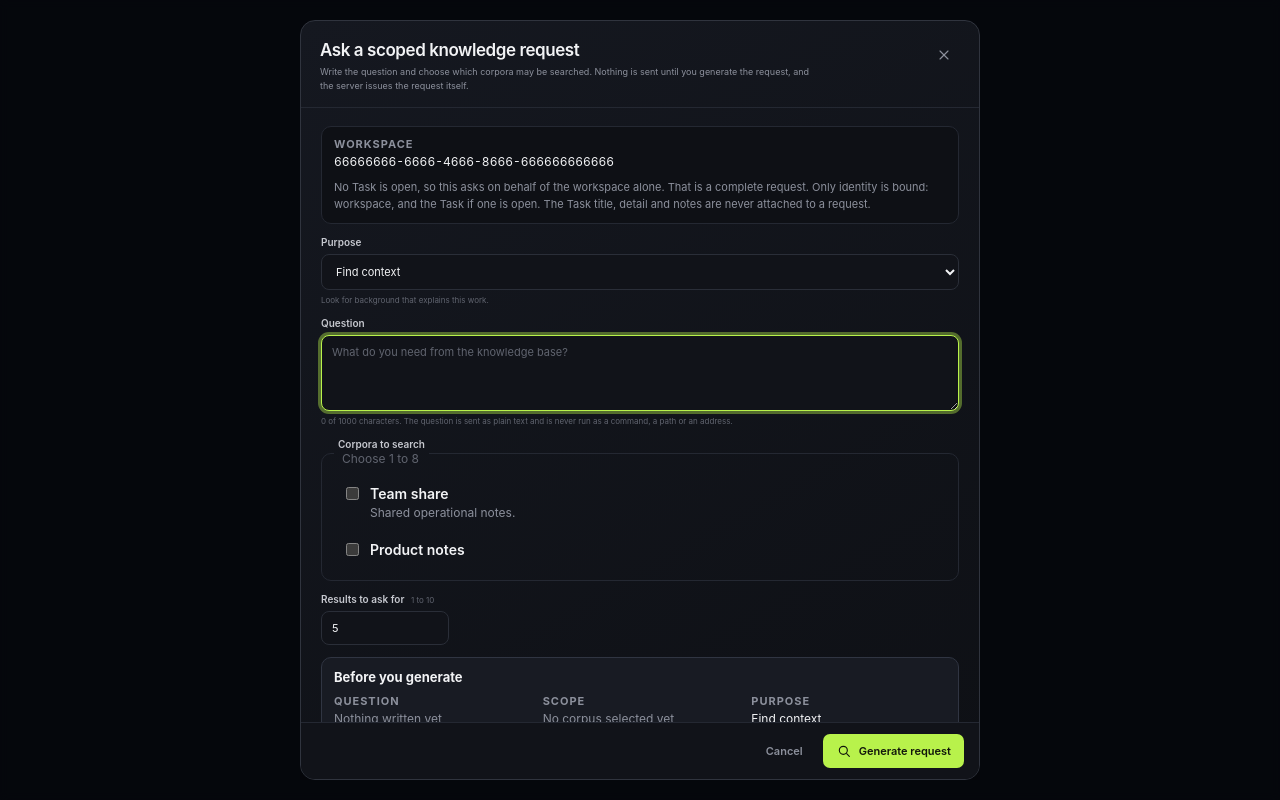
Scenario: a request refuses before issue when the question or the scope is unusable
Click the button "Generate request" at (893, 751), box [823,734,964,768]
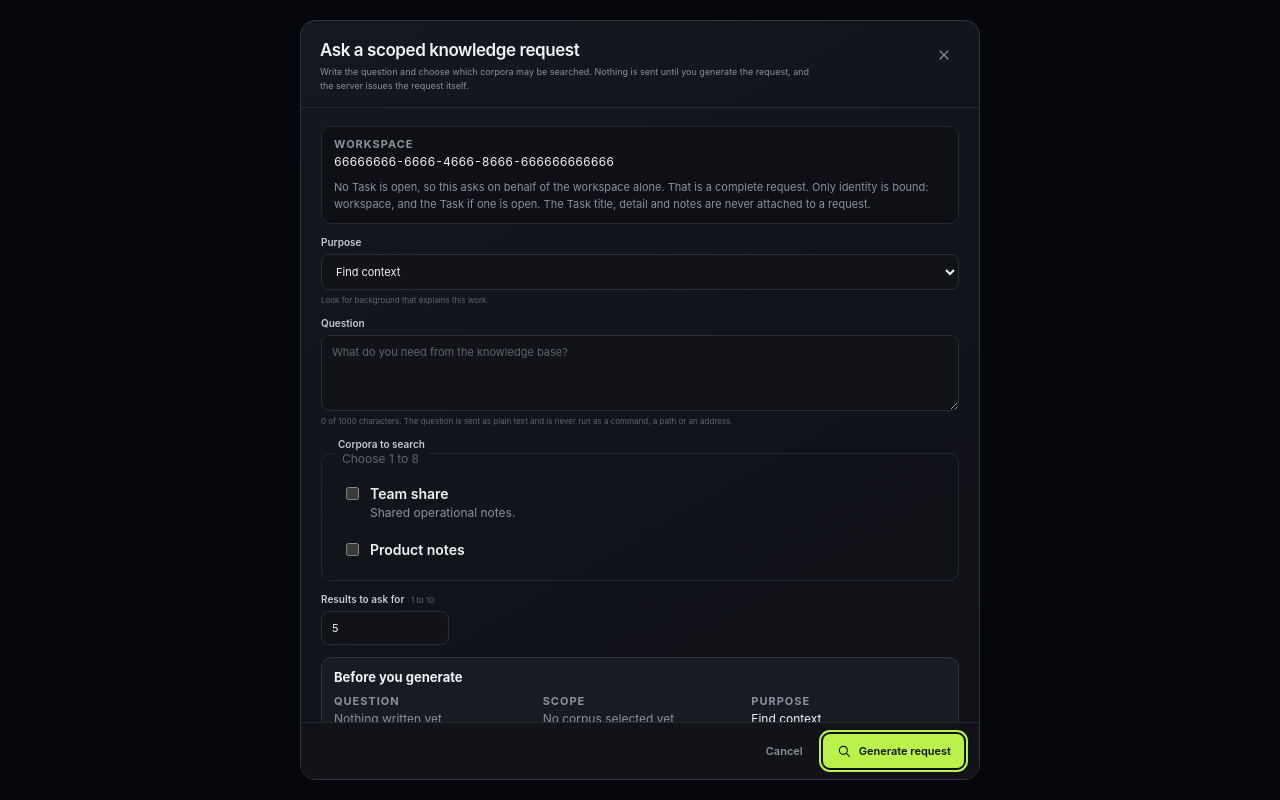
Type "rollback verification owner" into the text box labelled "Question" at (640, 373), box [321,335,959,411]
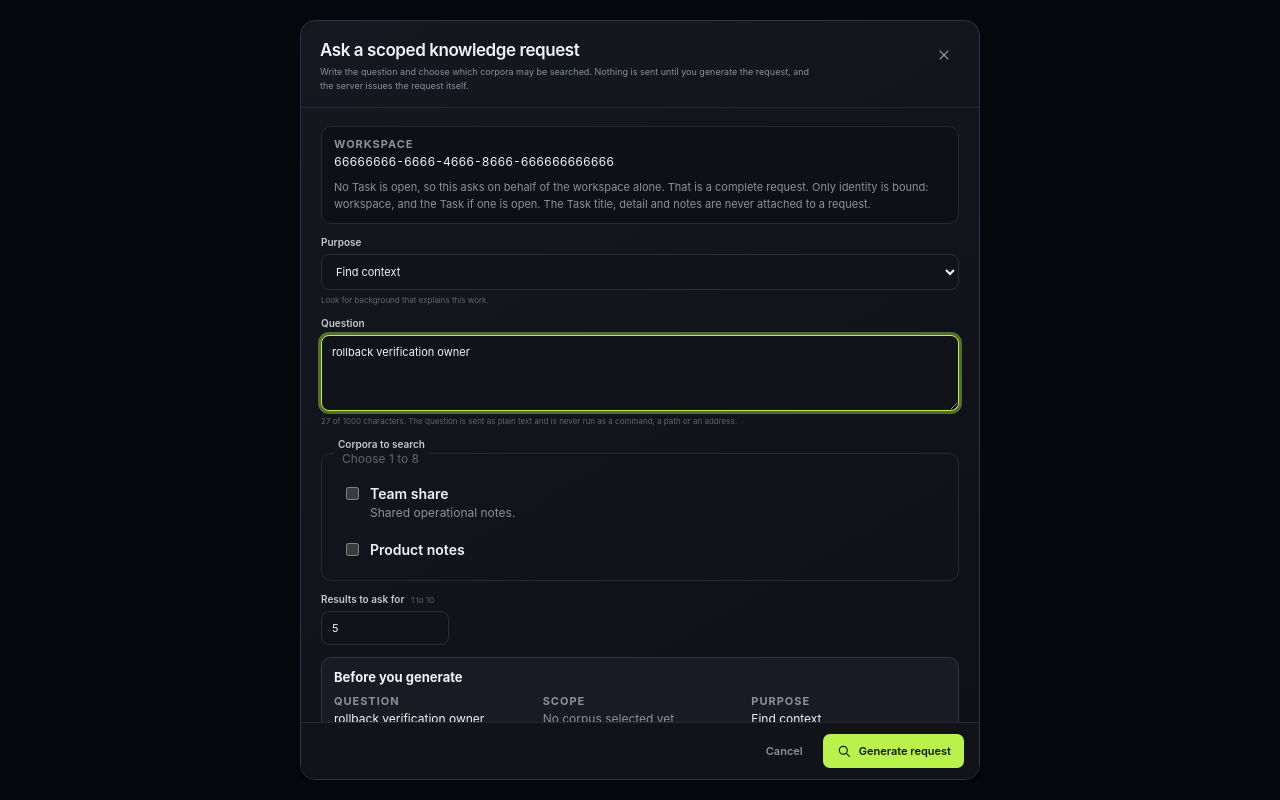
Click the button "Generate request" at (893, 751), box [823,734,964,768]
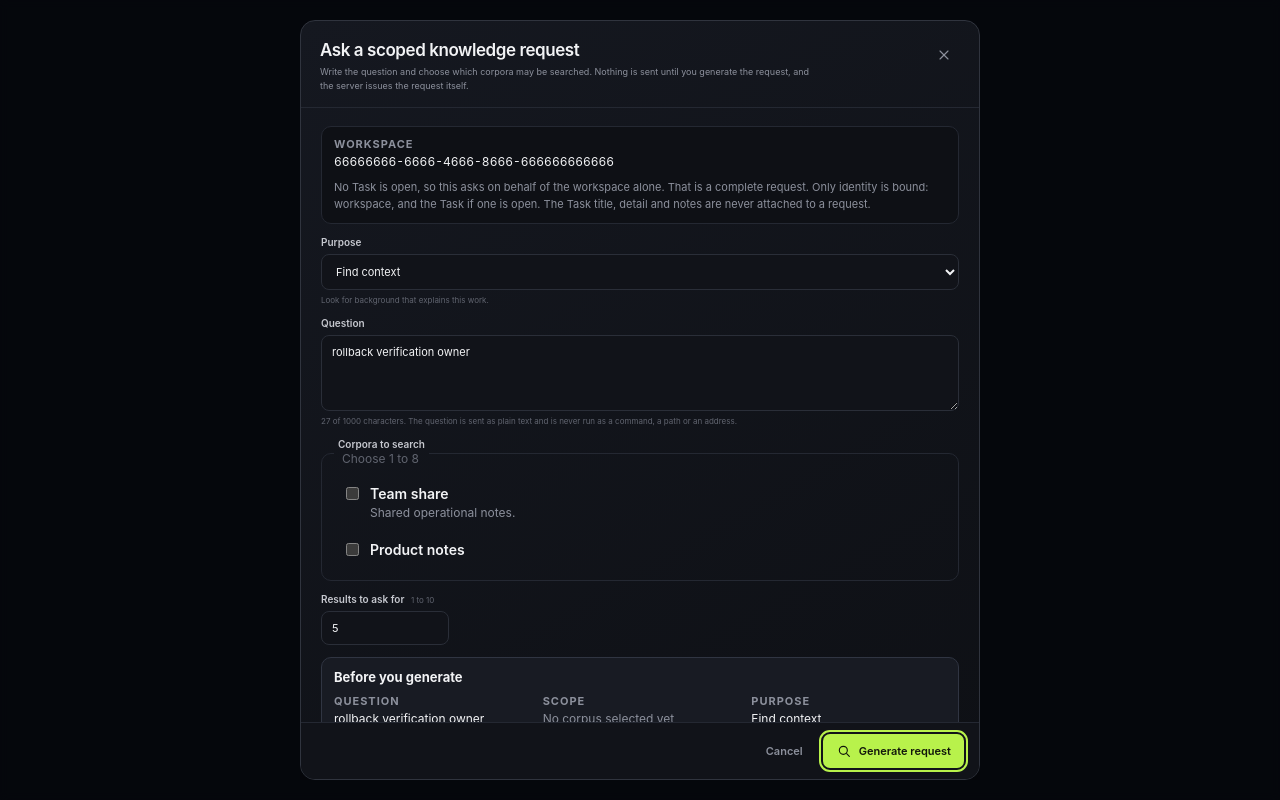
Click the checkbox labelled "Team share Shared operational notes." at (352, 494), box [346,487,359,500]
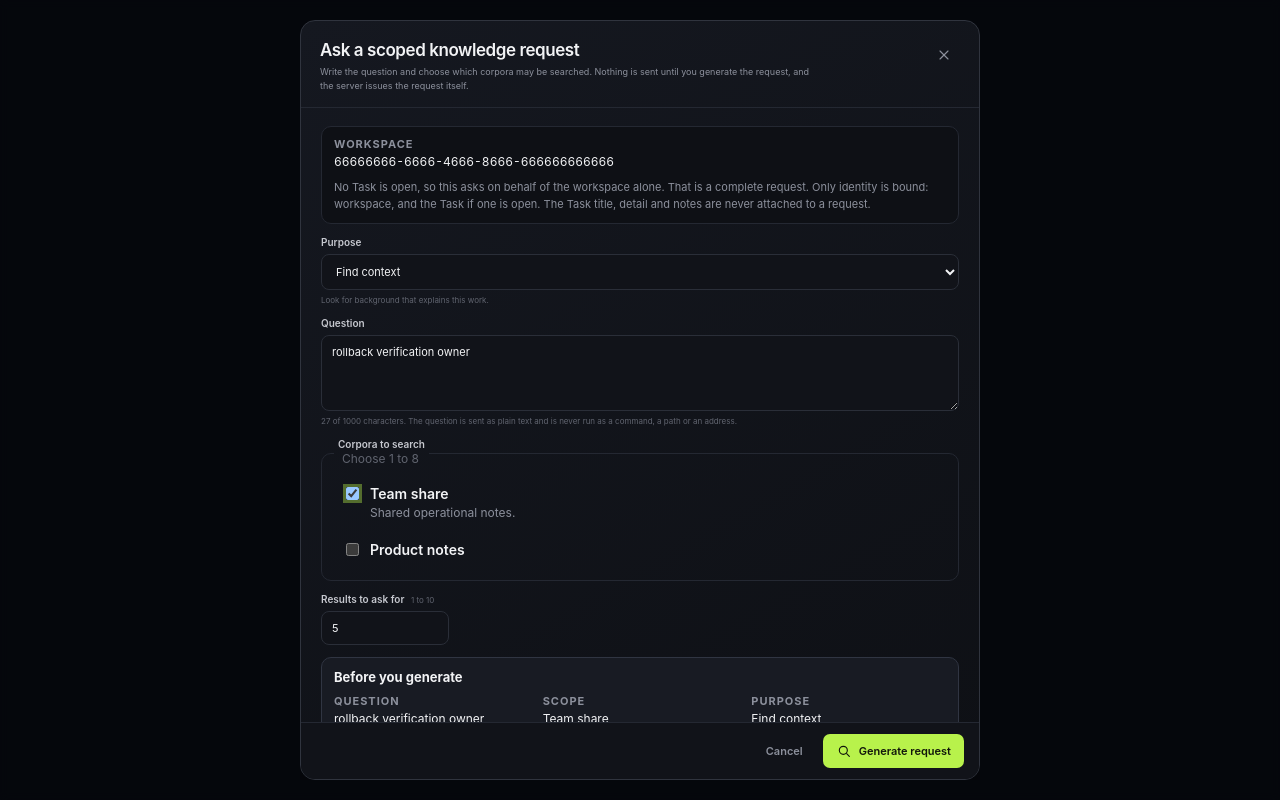
Replace the text in the number field labelled "Results to ask for 1 to 10" with "11" at (385, 628), box [321,611,449,645]
Click the button "Generate request" at (893, 751), box [823,734,964,768]
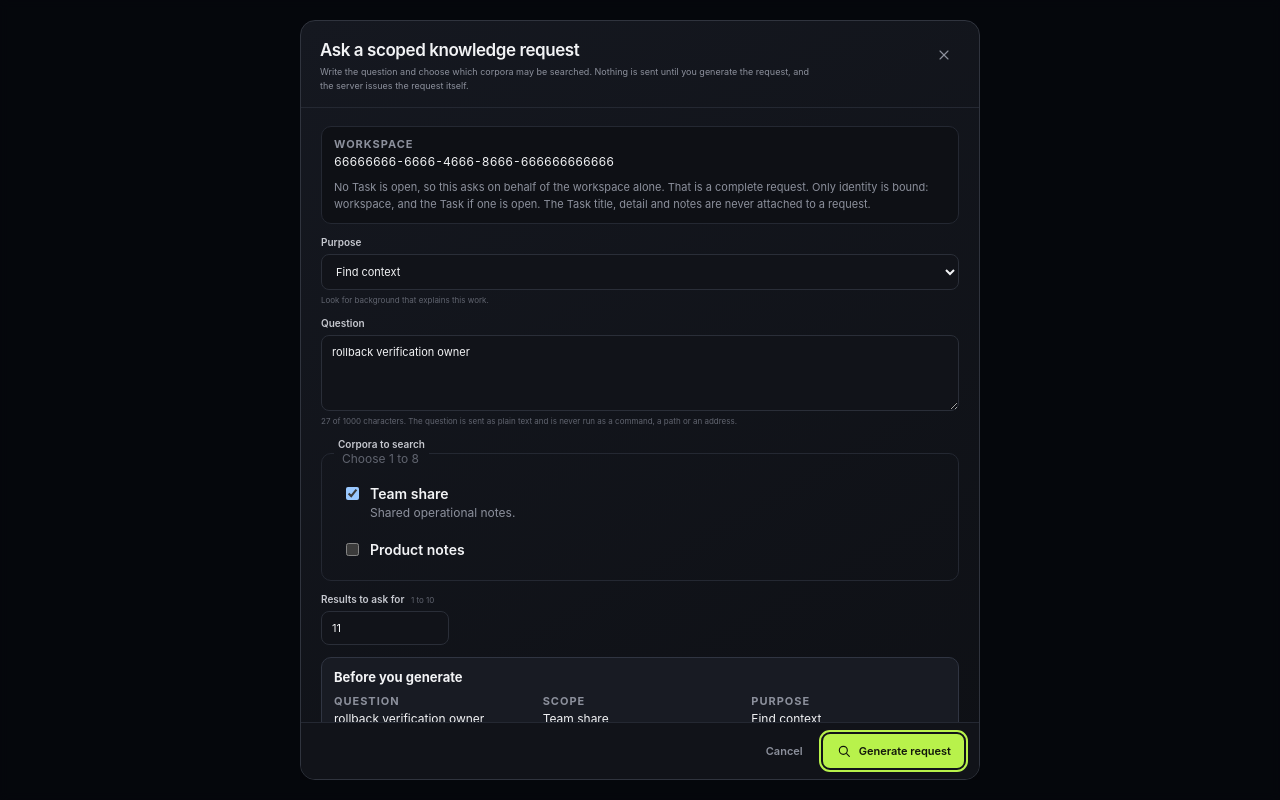
Replace the text in the number field labelled "Results to ask for 1 to 10" with "3" at (385, 628), box [321,611,449,645]
Click the button "Generate request" at (893, 751), box [823,734,964,768]
(page scrolled)
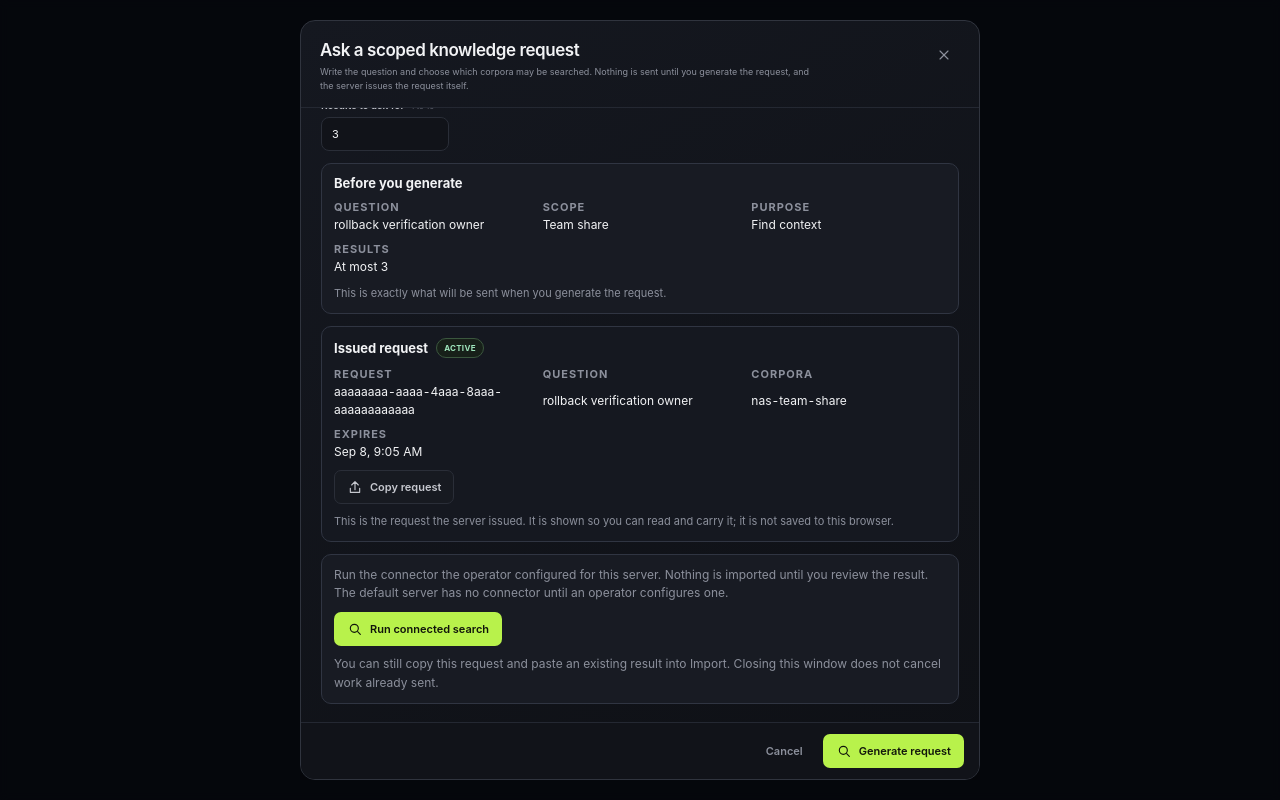
Expected: the element "Issued request" is shown, [321,326,959,542]
